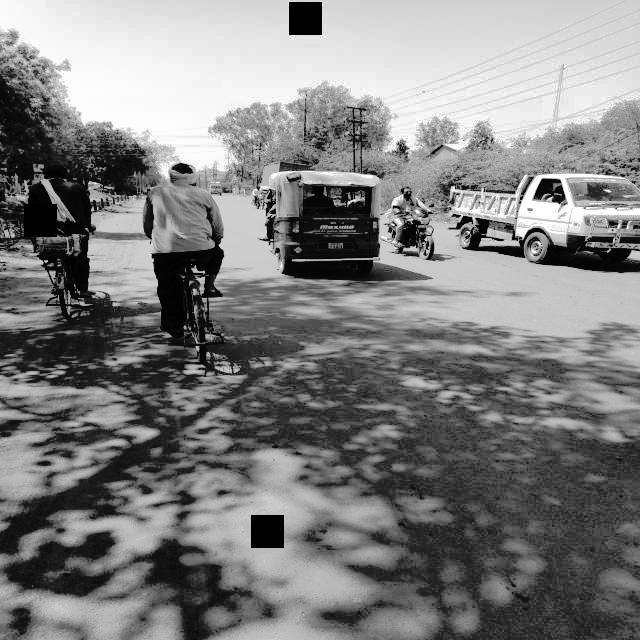Auto-Rickshaw: (249, 164, 399, 284)
Bike: (388, 186, 442, 272)
LCV: (446, 161, 640, 271)
